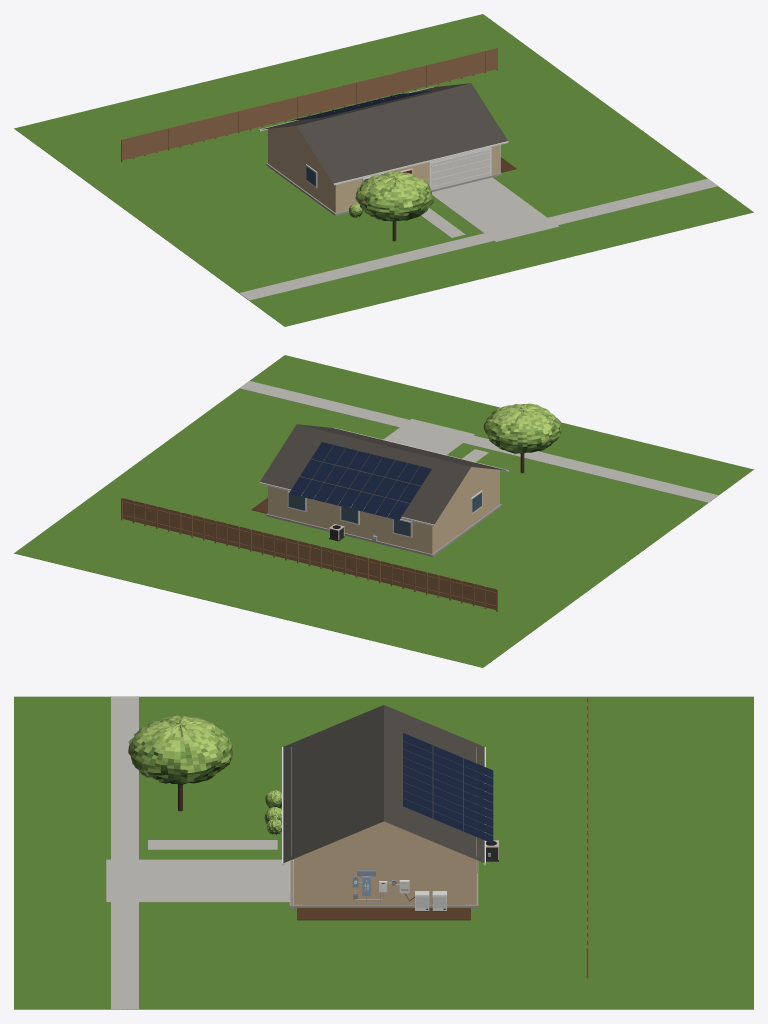
Rendered from home_02_post_install.obj.
The picture shows the model from 3 angles, top to bottom: view 1: azimuth 30°, elevation 25°; view 2: azimuth 150°, elevation 25°; view 3: azimuth 270°, elevation 25°; orthographic projection. The views are drawn at different scales.
Parts seen in each view (by area): view 1: yard, house, tree_1, solar_array; view 2: yard, house, solar_array, tree_1; view 3: yard, house, solar_array, tree_1, mulch_bed_side.
Part boxes in pixels (x1=…): yard: x1=14, y1=14, x2=753, y2=326; house: x1=259, y1=83, x2=508, y2=215; tree_1: x1=355, y1=171, x2=433, y2=241; solar_array: x1=290, y1=90, x2=431, y2=120; yard: x1=14, y1=355, x2=753, y2=667; house: x1=259, y1=424, x2=508, y2=556; solar_array: x1=289, y1=442, x2=431, y2=520; tree_1: x1=483, y1=403, x2=561, y2=473; yard: x1=14, y1=696, x2=753, y2=1009; house: x1=282, y1=705, x2=485, y2=908; solar_array: x1=403, y1=733, x2=493, y2=843; tree_1: x1=128, y1=715, x2=232, y2=811; mulch_bed_side: x1=297, y1=908, x2=470, y2=920.
Bounding box in the file's own units: 40 × 5.38 × 40.
